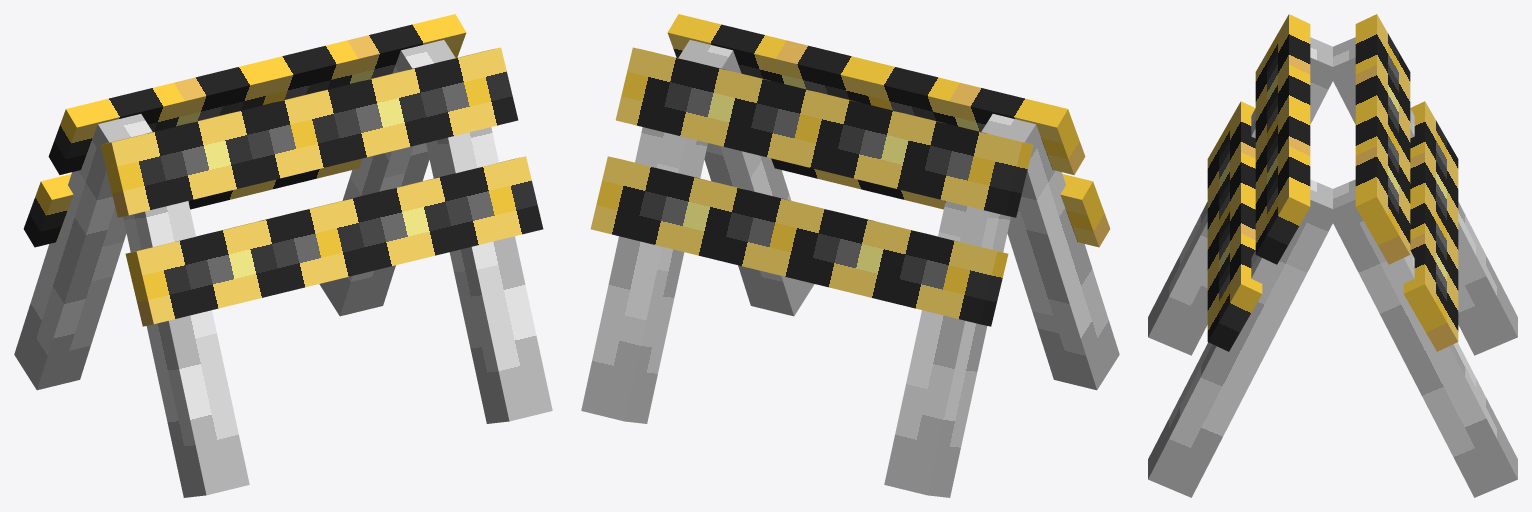
The model's file is construction-barrier.gltf.
The picture shows the model from 3 angles, left to right: view 1: azimuth 30°, elevation 25°; view 2: azimuth 150°, elevation 25°; view 3: azimuth 270°, elevation 25°; orthographic projection. The views are drawn at different scales.
Parts seen in each view (by area): view 1: cube; view 2: cube; view 3: cube.
Boxes of the visible parts, x1=… form: cube: x1=14, y1=14, x2=552, y2=497; cube: x1=581, y1=14, x2=1119, y2=497; cube: x1=1148, y1=14, x2=1517, y2=497.
Bounding box in the file's own units: 1.12 × 0.8932 × 0.9619.
1 material, 1 textured.
